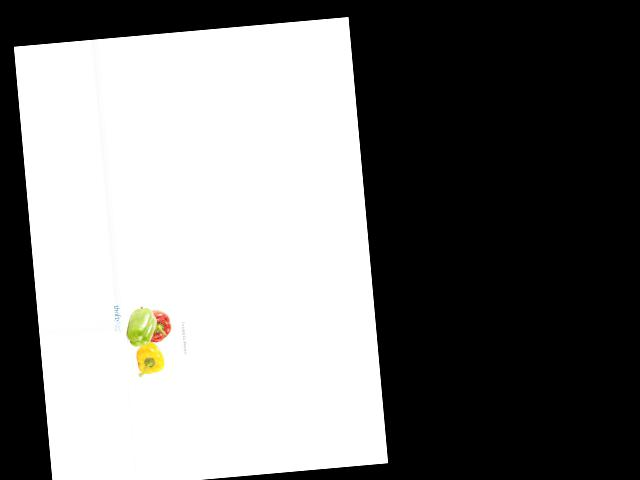bell_pepper: (121, 305, 158, 350)
